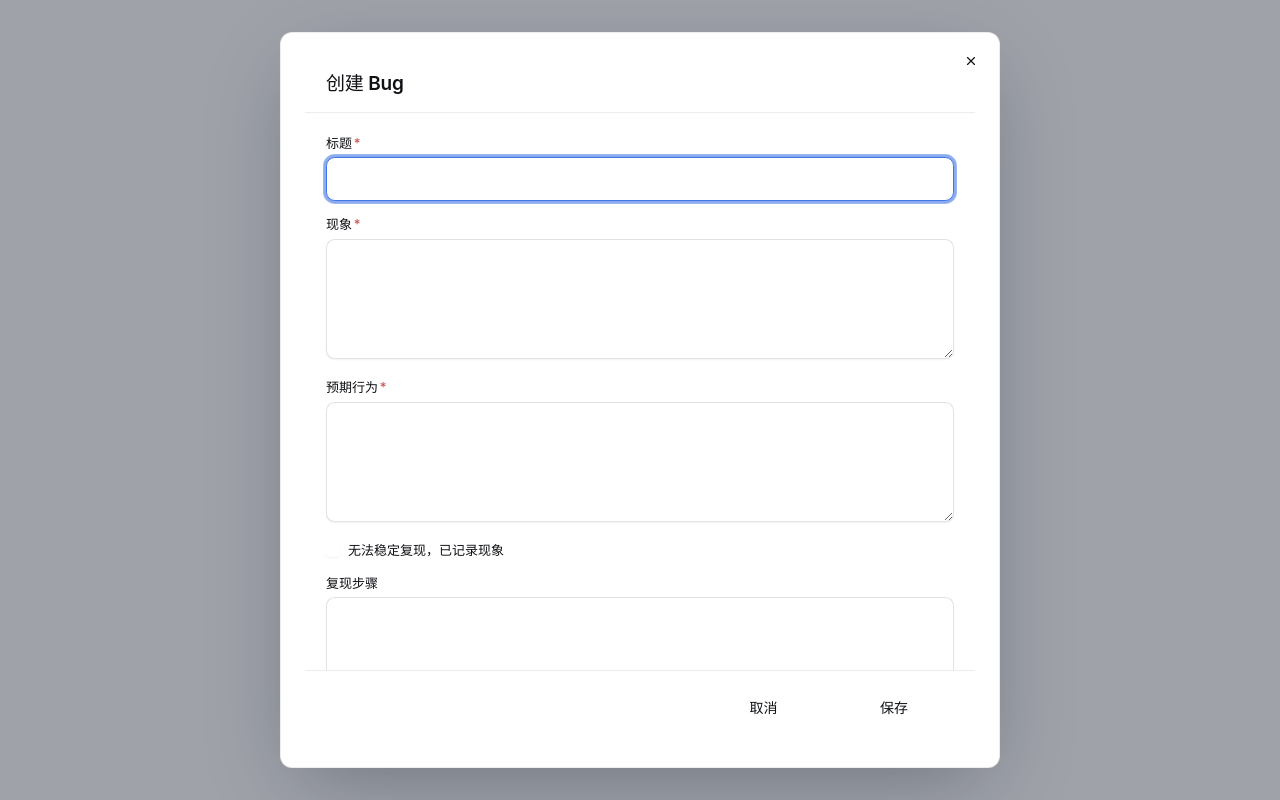
BugForm › 标题填写后继续定位到现象错误
Type "附件上传后列表为空" into the field labelled "标题 *" at (640, 179), box [326,157,954,201]
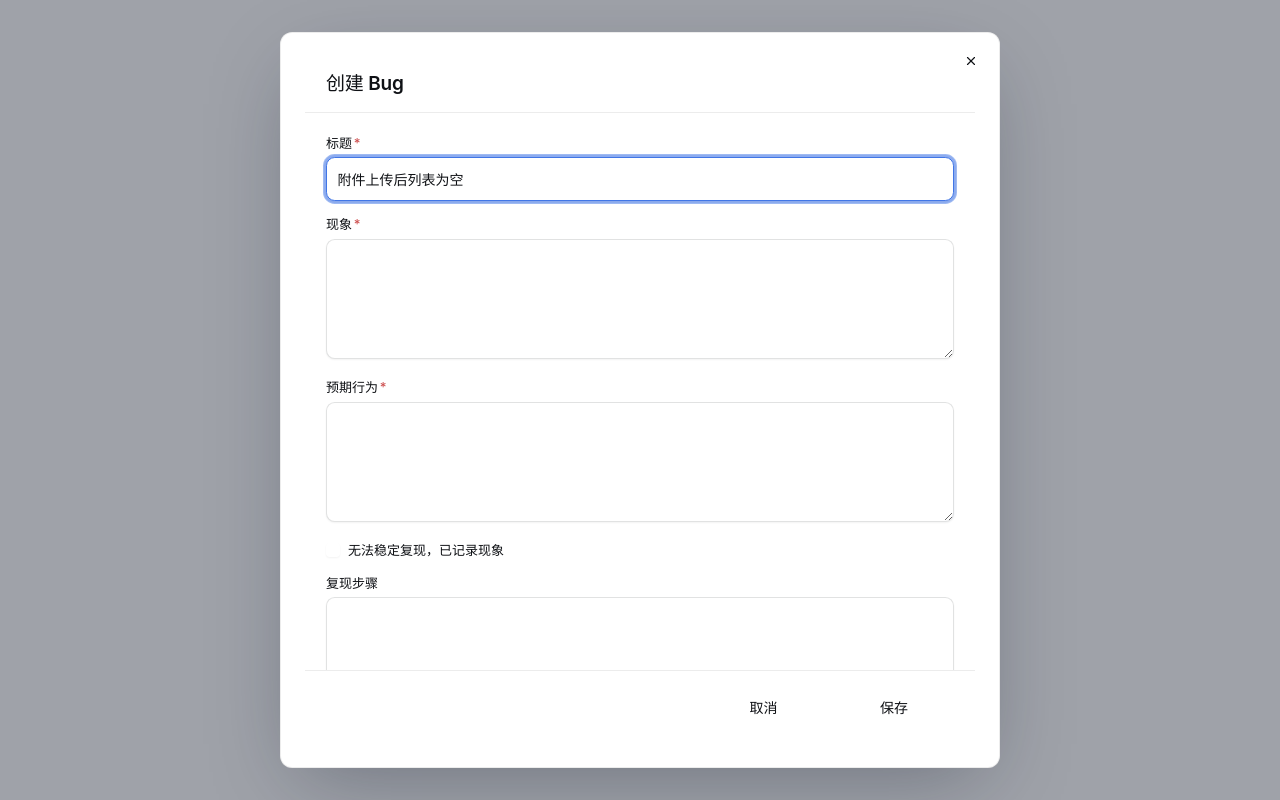
Click the button "保存" at (894, 707), box [834,685,954,729]
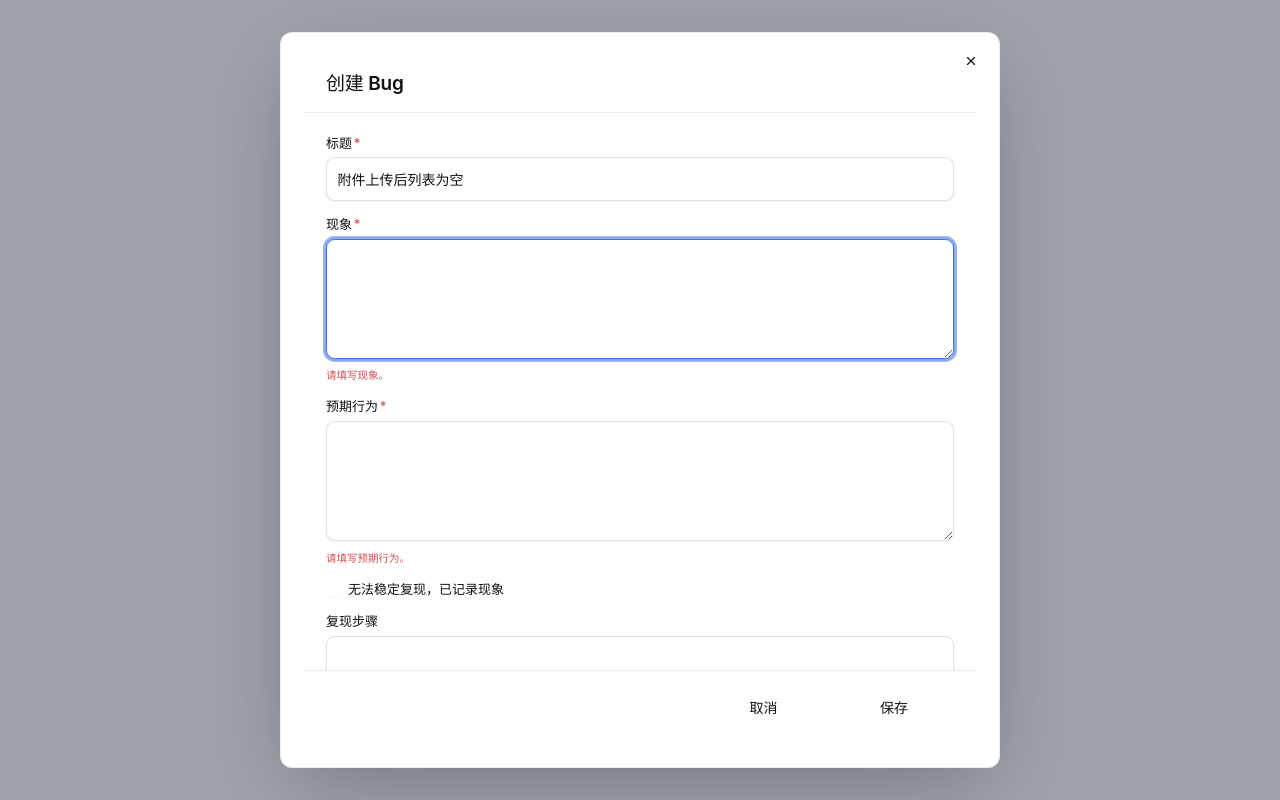
Expected: the message "请填写现象。" is shown, [326,370,389,382]
